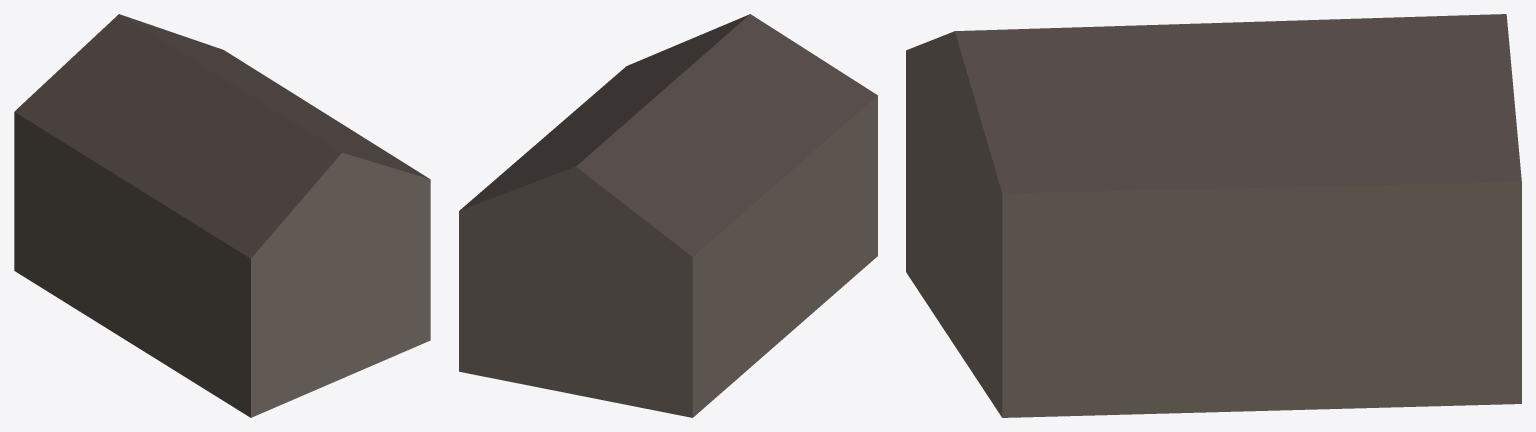
The picture shows the model from 3 angles, left to right: view 1: azimuth 30°, elevation 25°; view 2: azimuth 150°, elevation 25°; view 3: azimuth 270°, elevation 25°; orthographic projection. The views are drawn at different scales.
Parts seen in each view (by area): view 1: HP-w1200814976; view 2: HP-w1200814976; view 3: HP-w1200814976.
Boxes of the visible parts, left/top/right/bottom form: HP-w1200814976: left=14, top=14, right=430, bottom=417; HP-w1200814976: left=459, top=14, right=877, bottom=417; HP-w1200814976: left=906, top=14, right=1521, bottom=417.
Size of the model in its own units: 14.26 by 12.78 by 22.64.
